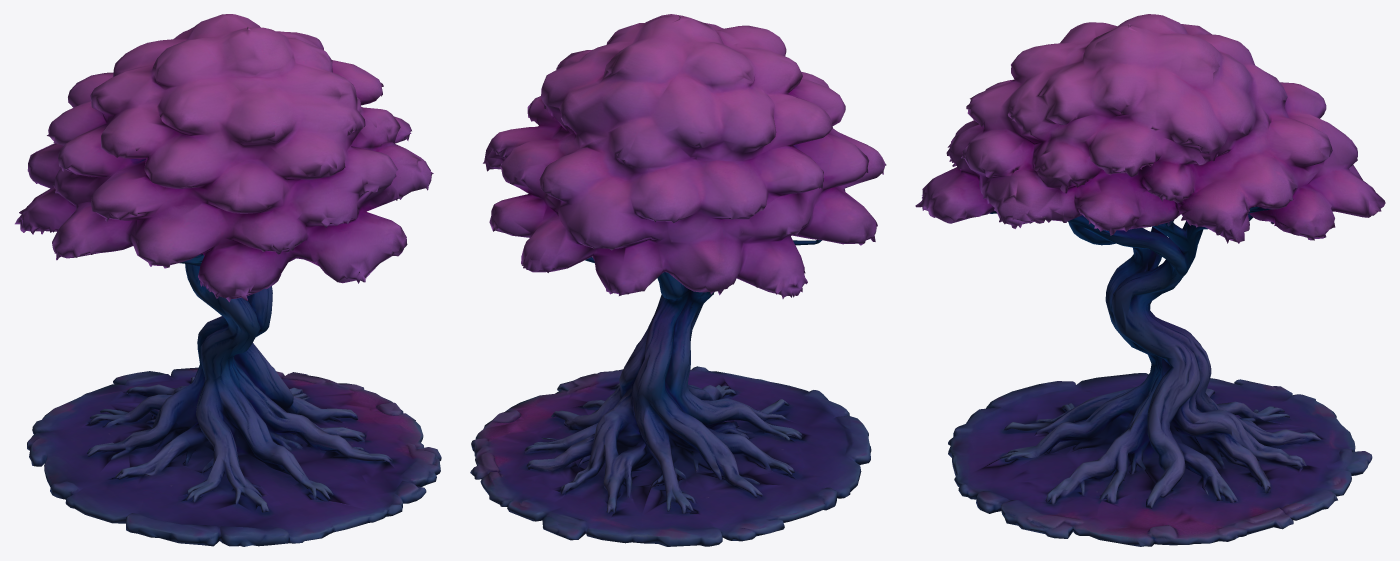
The model's file is tree_canopy.glb.
The picture shows the model from 3 angles, left to right: view 1: azimuth 30°, elevation 25°; view 2: azimuth 150°, elevation 25°; view 3: azimuth 270°, elevation 25°; orthographic projection.
Parts seen in each view (by area): view 1: tripo_node_5e2e6d20-45ff-4667-949a-8867eae4439b; view 2: tripo_node_5e2e6d20-45ff-4667-949a-8867eae4439b; view 3: tripo_node_5e2e6d20-45ff-4667-949a-8867eae4439b.
Part boxes in pixels (x1=…): tripo_node_5e2e6d20-45ff-4667-949a-8867eae4439b: x1=15, y1=14, x2=441, y2=546; tripo_node_5e2e6d20-45ff-4667-949a-8867eae4439b: x1=470, y1=14, x2=886, y2=546; tripo_node_5e2e6d20-45ff-4667-949a-8867eae4439b: x1=915, y1=14, x2=1385, y2=546.
Bounding box in the file's own units: 0.8714 × 0.9999 × 0.9696.
1 material, 1 textured.
